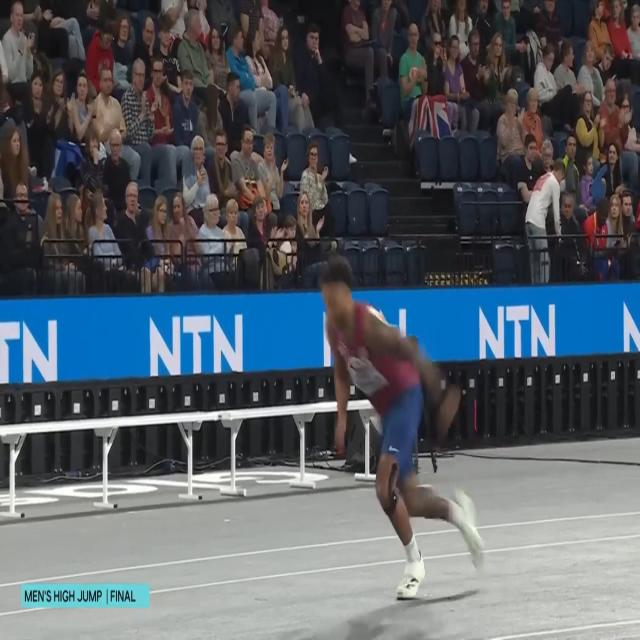run: (316, 249, 486, 603)
